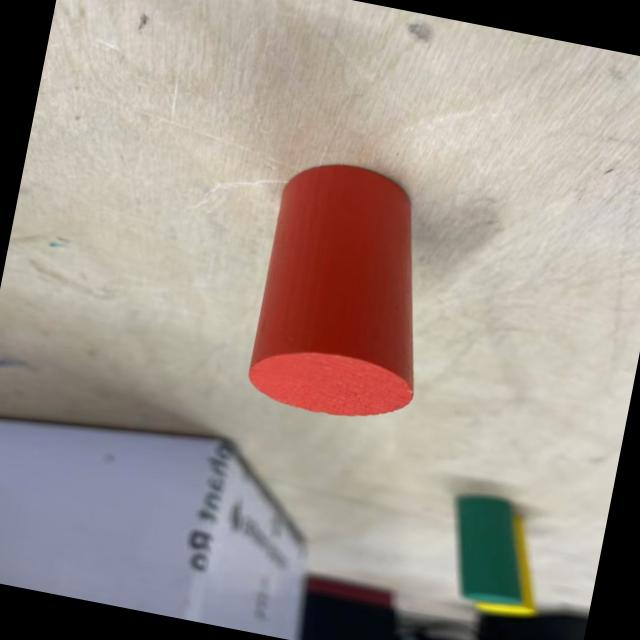red_cylinder: (242, 152, 454, 430)
